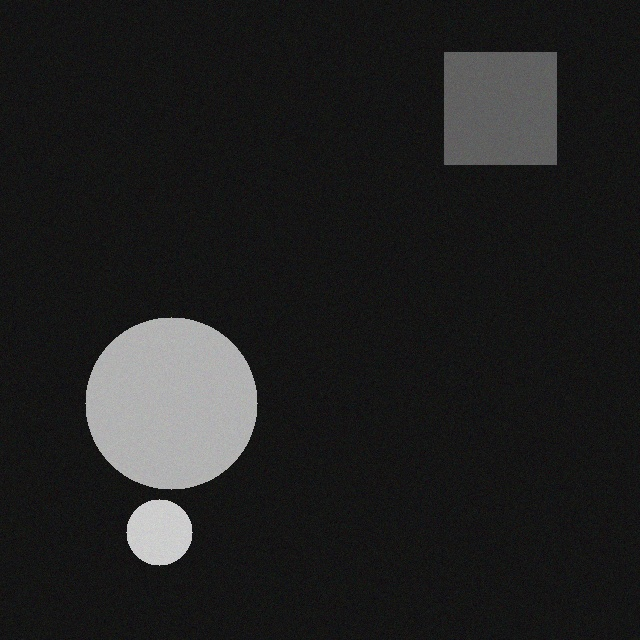circle: (92, 312, 264, 484), (133, 494, 199, 560)
square: (451, 47, 563, 159)
